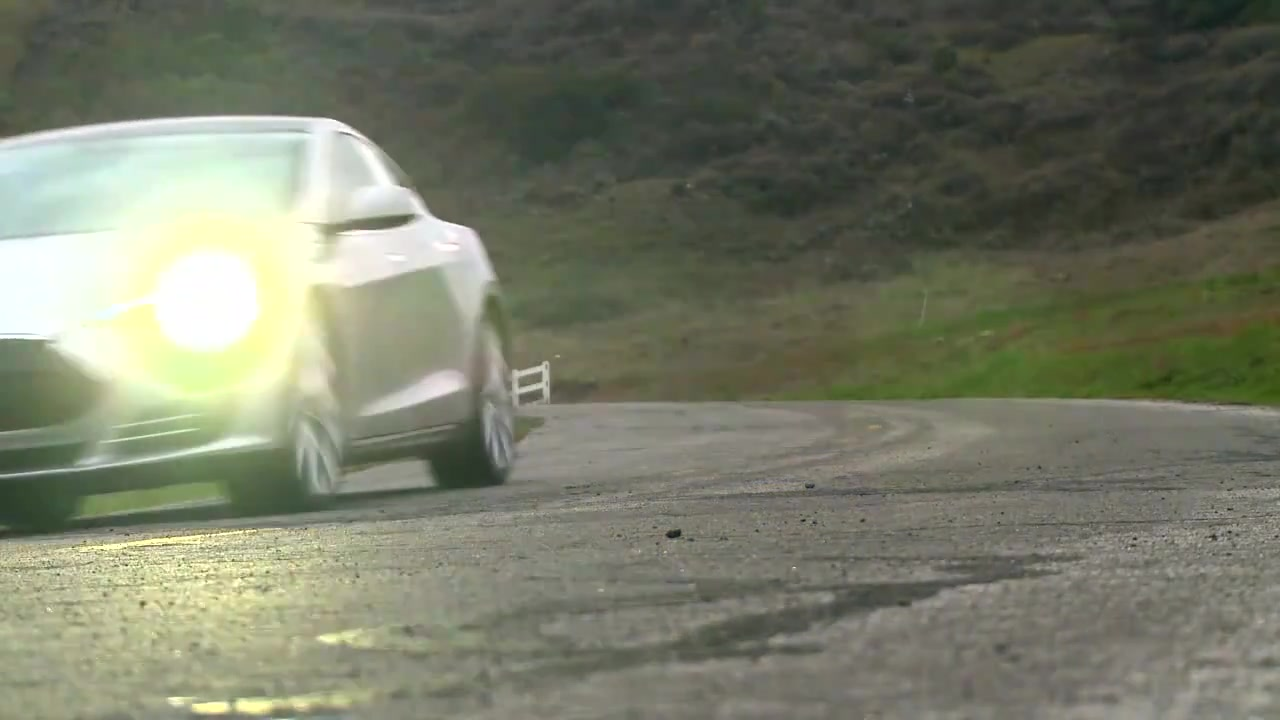car: (3, 116, 528, 548)
